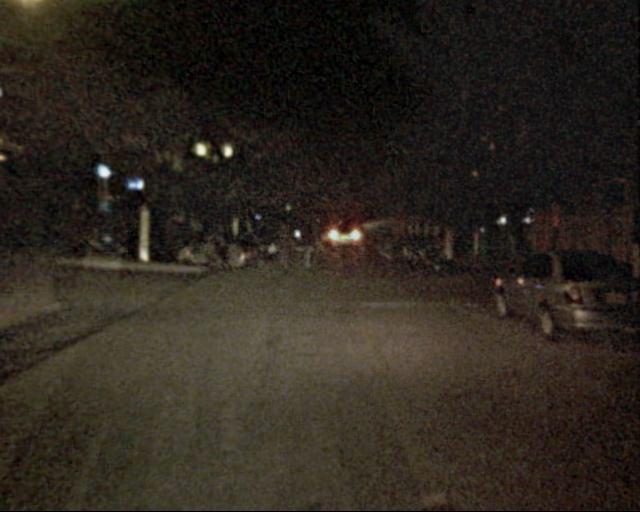person: (211, 220, 234, 277), (300, 223, 320, 273), (274, 222, 295, 269), (253, 220, 274, 265)
